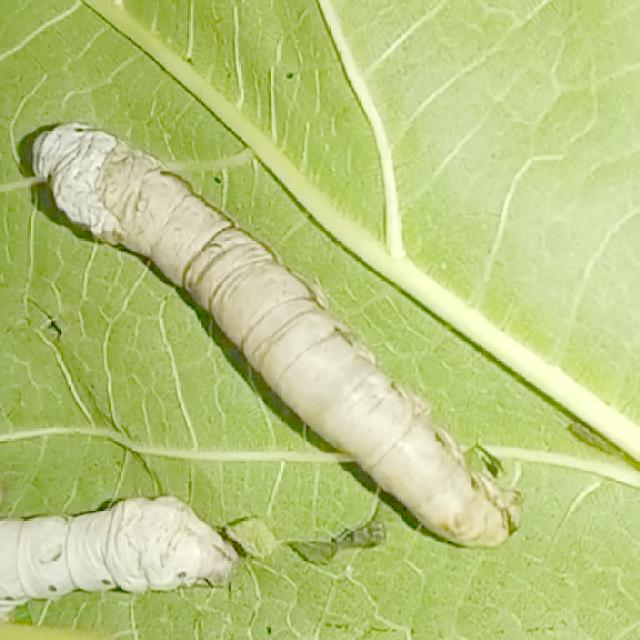Grasserie: (32, 111, 528, 547)
